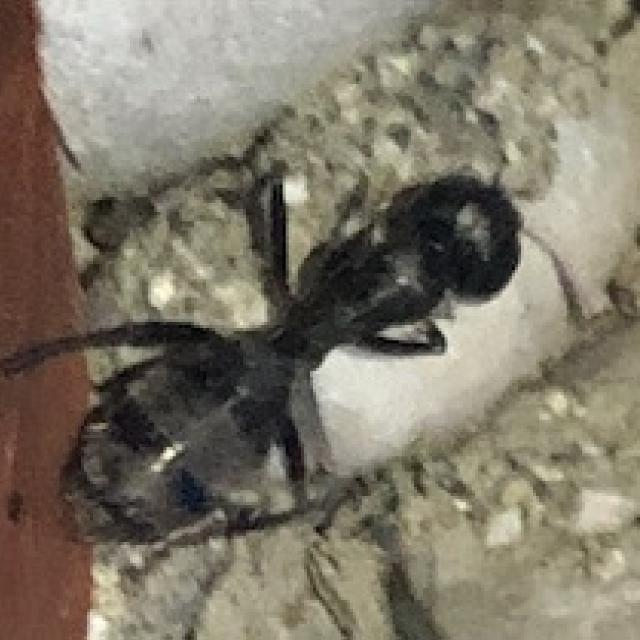Camponotus: (1, 80, 615, 592)
